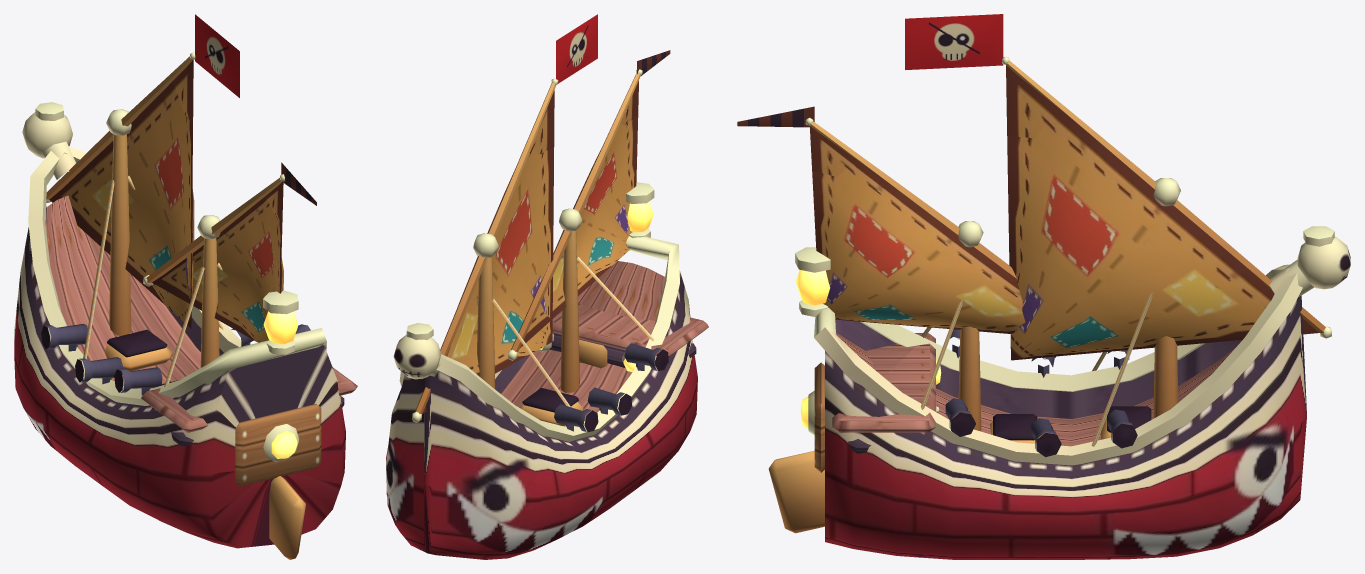
Rendered from brethren_skirmisher.glb.
3 views of the same model, side by side, from view 1: azimuth 30°, elevation 25°; view 2: azimuth 150°, elevation 25°; view 3: azimuth 270°, elevation 25° (orthographic). The views are drawn at different scales.
Parts seen in each view (by area): view 1: Hull, Sail0_0, Rigging, Sail1_0, Guns0, Flag; view 2: Hull, Sail0_0, Rigging, Sail1_0, Guns0, Flag; view 3: Hull, Sail0_0, Sail1_0, Rigging, Flag, Guns0.
Part boxes in pixels (x1,y1,x2,y2): Hull: [14, 102, 357, 559]; Sail0_0: [49, 60, 194, 328]; Rigging: [46, 52, 284, 386]; Sail1_0: [152, 182, 283, 342]; Guns0: [41, 324, 310, 394]; Flag: [195, 14, 316, 205]; Hull: [386, 182, 708, 559]; Sail0_0: [422, 90, 554, 413]; Rigging: [412, 69, 654, 425]; Sail1_0: [520, 80, 638, 347]; Guns0: [554, 343, 668, 431]; Flag: [556, 14, 670, 83]; Hull: [768, 226, 1350, 559]; Sail0_0: [1006, 65, 1318, 360]; Sail1_0: [809, 126, 1025, 333]; Rigging: [805, 56, 1331, 446]; Flag: [737, 14, 1003, 127]; Guns0: [945, 329, 1137, 457].
Size of the model in its own units: 1.01 by 2.22 by 2.38.
8 materials, 8 textured.
